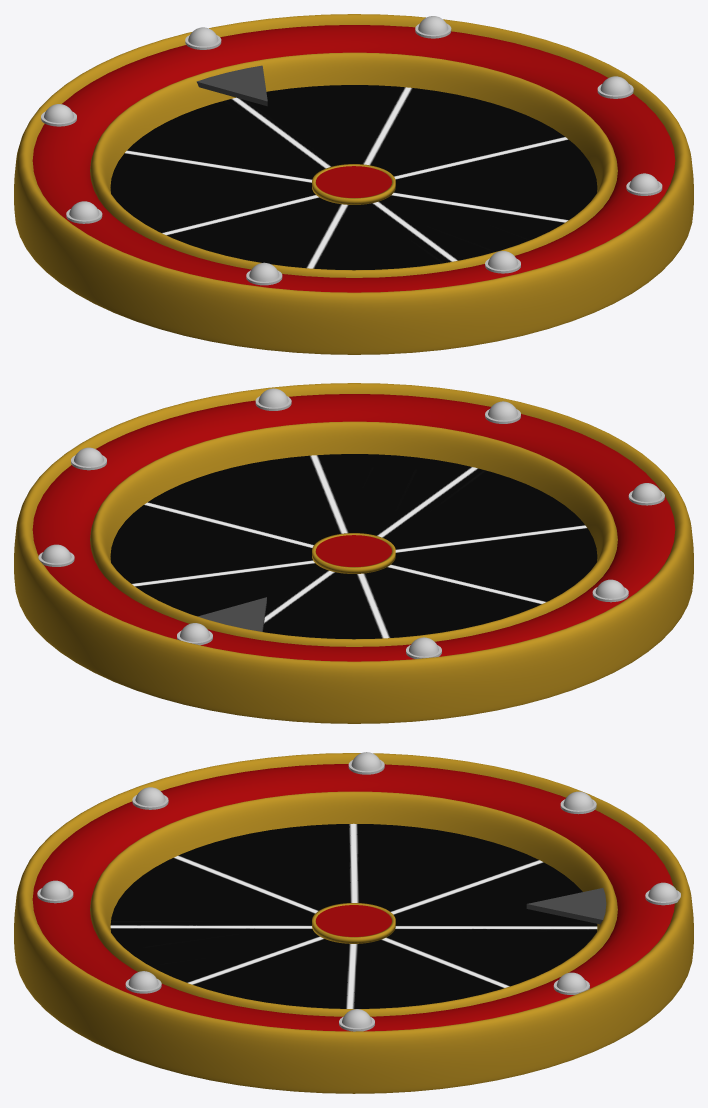
The model's file is Prize Wheel.fbx.
3 views of the same model, one above another, from view 1: azimuth 30°, elevation 25°; view 2: azimuth 150°, elevation 25°; view 3: azimuth 270°, elevation 25° (orthographic).
Parts seen in each view (by area): view 1: Base of the Wheel Circle, Base of the Wheel Inner outter Circle.001, Base of the Wheel, Base of the Wheel Inner outter Circle, Wheel Lights, Base of the Wheel Inner Circle, Wheel Arrow, Base of the Wheel Inner Circle.001; view 2: Base of the Wheel Circle, Base of the Wheel Inner outter Circle.001, Base of the Wheel, Base of the Wheel Inner outter Circle, Wheel Lights, Base of the Wheel Inner Circle, Wheel Arrow, Base of the Wheel Inner Circle.001; view 3: Base of the Wheel Circle, Base of the Wheel Inner outter Circle.001, Base of the Wheel, Base of the Wheel Inner outter Circle, Wheel Lights, Base of the Wheel Inner Circle, Wheel Arrow, Base of the Wheel Inner Circle.001.
Part boxes in pixels (<box>): Base of the Wheel Circle: <box>110,85,597,270</box>; Base of the Wheel Inner outter Circle.001: <box>14,14,693,354</box>; Base of the Wheel: <box>32,25,675,292</box>; Base of the Wheel Inner outter Circle: <box>90,52,617,277</box>; Wheel Lights: <box>41,16,662,285</box>; Base of the Wheel Inner Circle: <box>315,166,391,197</box>; Wheel Arrow: <box>196,65,267,106</box>; Base of the Wheel Inner Circle.001: <box>312,164,395,204</box>; Base of the Wheel Circle: <box>110,454,597,639</box>; Base of the Wheel Inner outter Circle.001: <box>14,383,693,723</box>; Base of the Wheel: <box>32,394,675,661</box>; Base of the Wheel Inner outter Circle: <box>90,421,617,646</box>; Wheel Lights: <box>38,388,664,658</box>; Base of the Wheel Inner Circle: <box>315,535,391,566</box>; Wheel Arrow: <box>198,597,266,631</box>; Base of the Wheel Inner Circle.001: <box>312,533,395,573</box>; Base of the Wheel Circle: <box>110,823,597,1008</box>; Base of the Wheel Inner outter Circle.001: <box>14,753,693,1093</box>; Base of the Wheel: <box>32,764,674,1031</box>; Base of the Wheel Inner outter Circle: <box>90,791,617,1016</box>; Wheel Lights: <box>37,752,680,1031</box>; Base of the Wheel Inner Circle: <box>316,905,391,936</box>; Wheel Arrow: <box>526,888,606,924</box>; Base of the Wheel Inner Circle.001: <box>312,903,395,943</box>.
Size of the model in its own units: 185 by 20.56 by 185.
